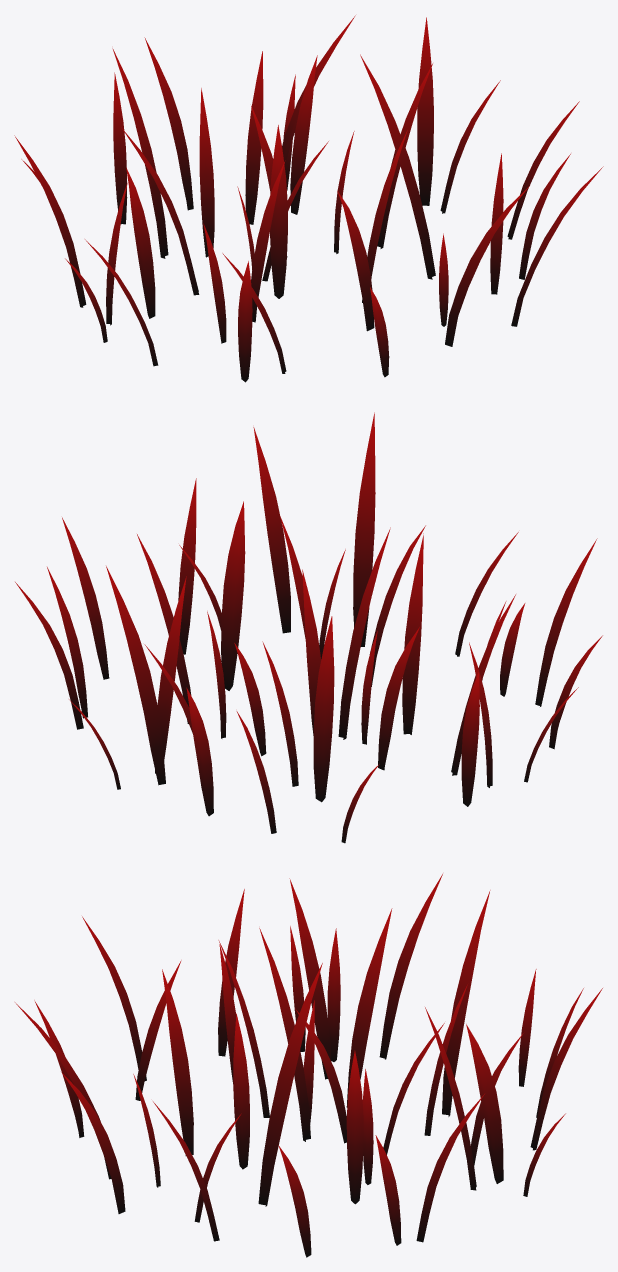
The model's file is grass.fbx.
3 views of the same model, one above another, from view 1: azimuth 30°, elevation 25°; view 2: azimuth 150°, elevation 25°; view 3: azimuth 270°, elevation 25° (orthographic). The views are drawn at different scales.
Parts seen in each view (by area): view 1: Grass; view 2: Grass; view 3: Grass.
Part boxes in pixels (box(x1,y1,x2,y2)): Grass: box(14, 15, 603, 382); Grass: box(15, 412, 602, 843); Grass: box(15, 874, 602, 1257).
Size of the model in its own units: 3.54 by 1.43 by 3.41.
